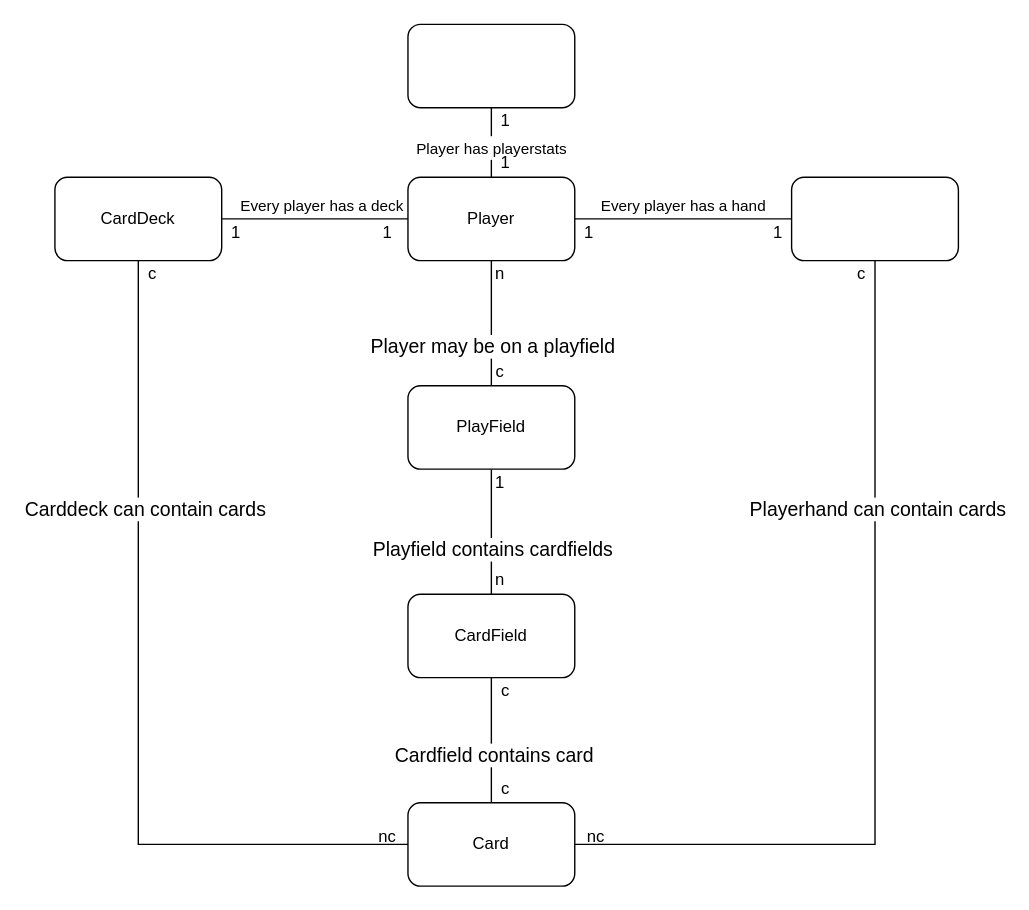
Some shapes in this 1029 by 910 pixel diagram are drawn without their labels. Each missing label, with the centre of its shape:
"PlayerHand" goes at (874,218).
"PlayerStats" goes at (491,65).
